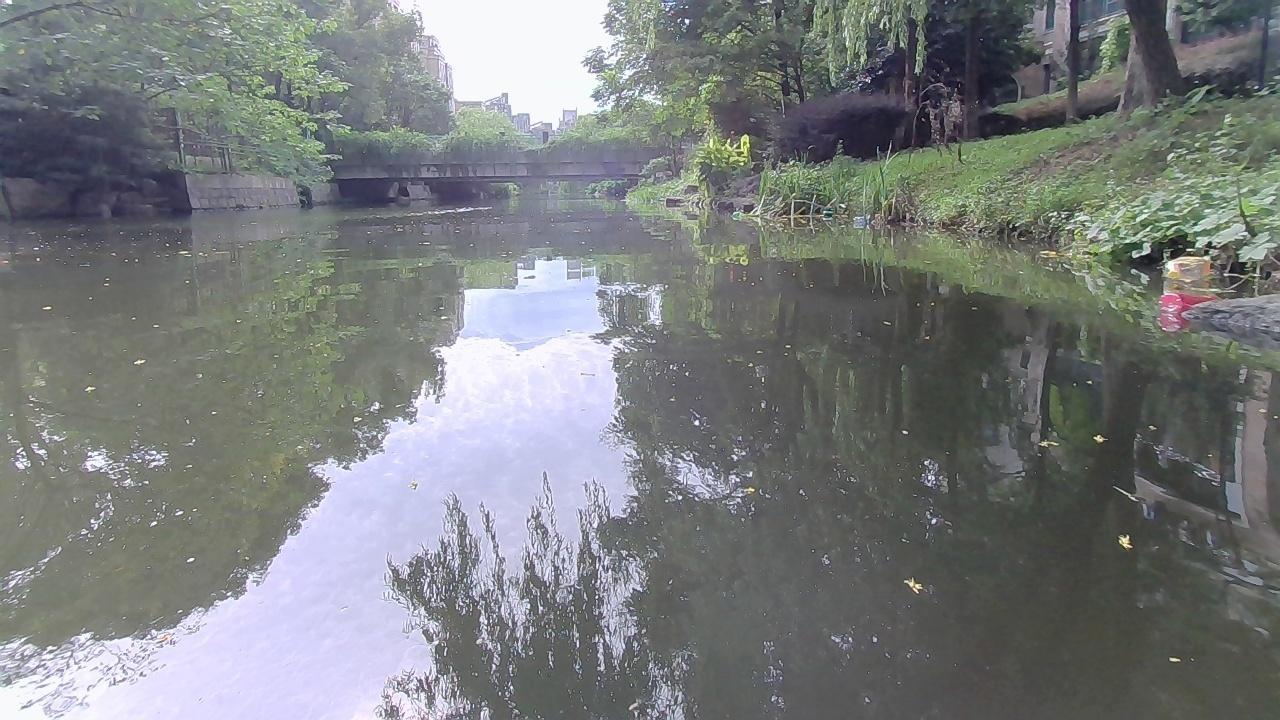bottle: (1161, 287, 1230, 321), (1168, 252, 1214, 277), (848, 213, 872, 222), (731, 209, 746, 221), (820, 207, 831, 216)
